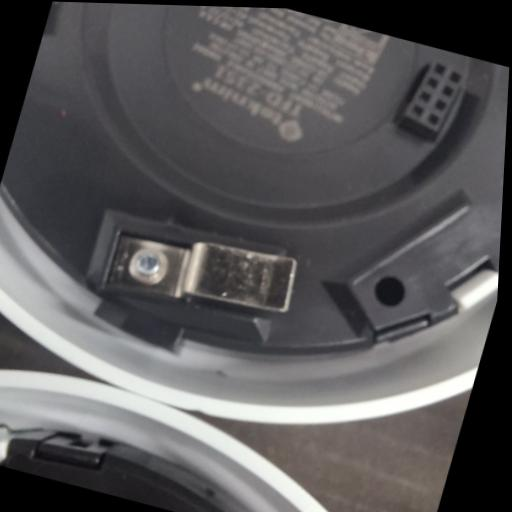yaysiz: (93, 209, 305, 334)
